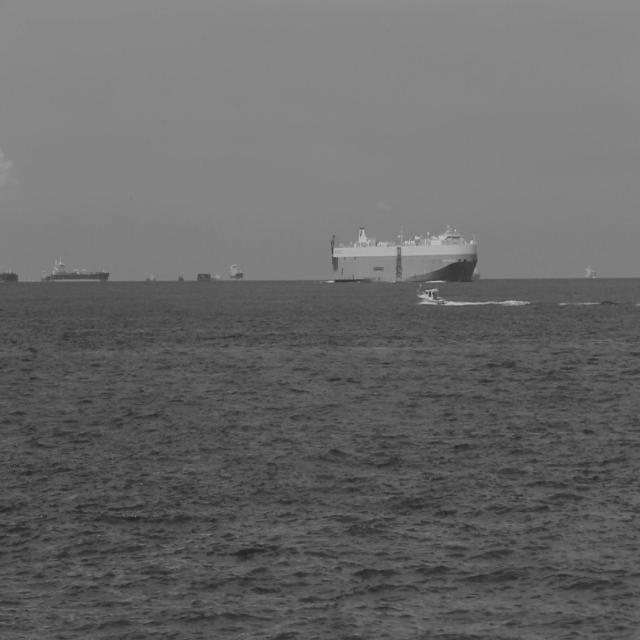ship: (328, 222, 478, 284), (50, 252, 110, 284), (416, 282, 446, 308), (0, 265, 20, 283), (228, 260, 244, 282), (472, 260, 482, 282), (38, 266, 50, 284), (196, 270, 212, 282), (176, 273, 184, 282)
